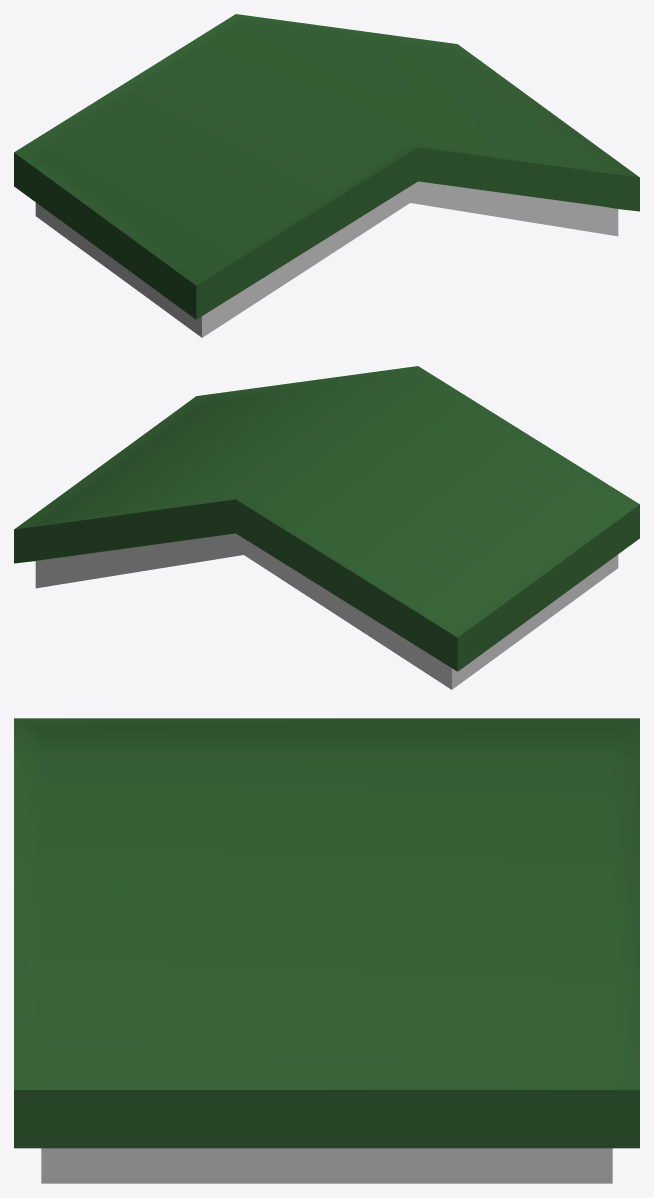
Rendered from Floor Book 3.fbx.
The picture shows the model from 3 angles, top to bottom: view 1: azimuth 30°, elevation 25°; view 2: azimuth 150°, elevation 25°; view 3: azimuth 270°, elevation 25°; orthographic projection. The views are drawn at different scales.
Parts seen in each view (by area): view 1: pCube1; view 2: pCube1; view 3: pCube1.
Boxes of the visible parts, x1,y1,x2,y2 form: pCube1: [14, 14, 639, 337]; pCube1: [14, 366, 639, 689]; pCube1: [14, 718, 639, 1183].
Size of the model in its own units: 3.22 by 1.01 by 2.29.
